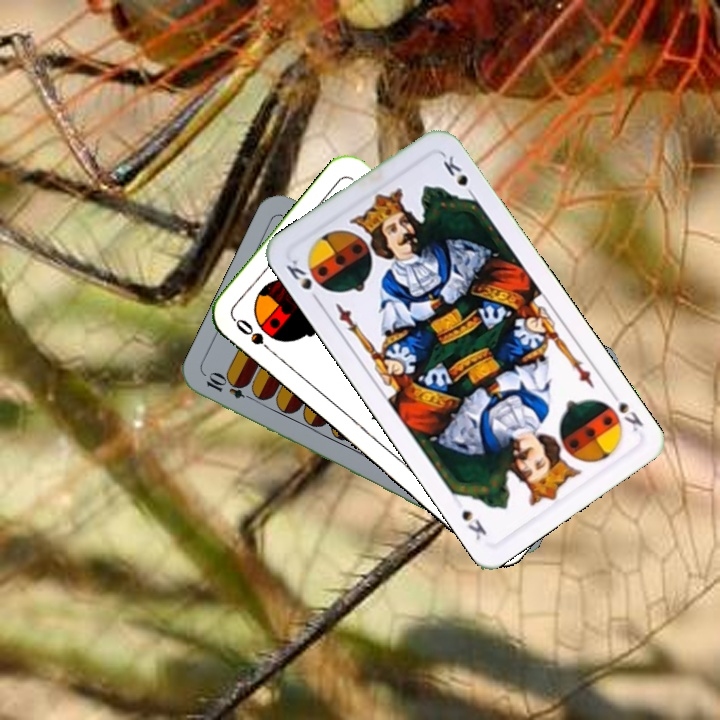E10: (202, 370, 259, 404)
SK: (282, 255, 324, 307), (605, 387, 646, 436)
SO: (230, 314, 279, 359)
